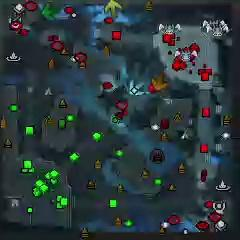x2: (104, 0, 122, 18)
x3: (129, 78, 145, 96)
x4: (41, 3, 59, 21)
x5: (152, 72, 167, 90)
